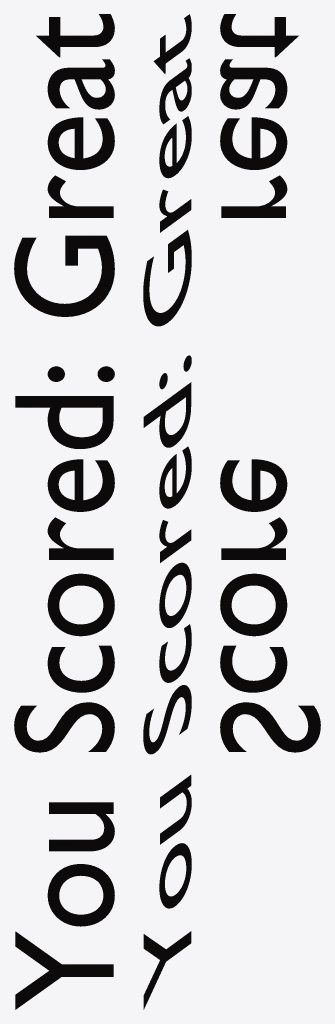
Rendered from point4.dae.
3 views of the same model, side by side, from view 1: azimuth 90°, elevation 25°; view 2: azimuth 150°, elevation 25°; view 3: azimuth 270°, elevation 25° (orthographic). The views are drawn at different scales.
Parts seen in each view (by area): view 1: Text; view 2: Text; view 3: Text.
Boxes of the visible parts, x1,y1,x2,y2 form: Text: [14, 14, 114, 1009]; Text: [143, 14, 191, 1009]; Text: [220, 14, 320, 752].
Size of the model in its own units: 3.34e-07 by 0.7 by 7.64.
Materials: 1 (1 with a texture image).
